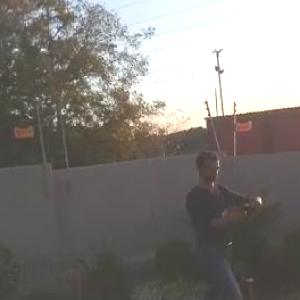follow: (180, 142, 272, 299)
